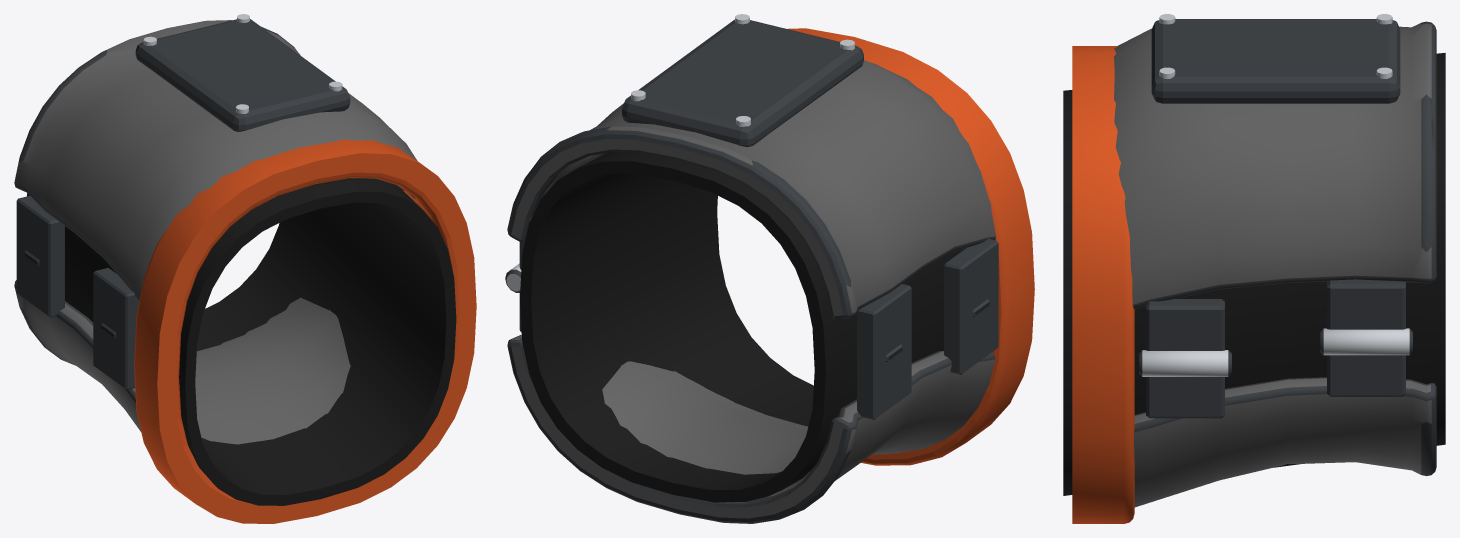
The model's file is gauntlet_base.fbx.
3 views of the same model, side by side, from view 1: azimuth 30°, elevation 25°; view 2: azimuth 150°, elevation 25°; view 3: azimuth 270°, elevation 25° (orthographic). The views are drawn at different scales.
Parts seen in each view (by area): view 1: Mesh_GauntletBase_Undersleeve_Mount, Mesh_GauntletBase_DorsalShell_Mount, Mesh_GauntletBase_Collar_Mount, Mesh_GauntletBase_VentralShell_Mount, Mesh_GauntletBase_Deck_Mount, Mesh_GauntletBase_LatchRear_Mount, Mesh_GauntletBase_LatchFront_Mount; view 2: Mesh_GauntletBase_Undersleeve_Mount, Mesh_GauntletBase_DorsalShell_Mount, Mesh_GauntletBase_VentralShell_Mount, Mesh_GauntletBase_Deck_Mount, Mesh_GauntletBase_Collar_Mount, Mesh_GauntletBase_LatchFront_Mount, Mesh_GauntletBase_LatchRear_Mount; view 3: Mesh_GauntletBase_DorsalShell_Mount, Mesh_GauntletBase_Collar_Mount, Mesh_GauntletBase_VentralShell_Mount, Mesh_GauntletBase_Undersleeve_Mount, Mesh_GauntletBase_Deck_Mount, Mesh_GauntletBase_HingeFront_Mount, Mesh_GauntletBase_HingeRear_Mount, Mesh_GauntletBase_Bosses_Mount.
Part boxes in pixels (x1,y1,x2,y2): Mesh_GauntletBase_Undersleeve_Mount: (27,180,456,505); Mesh_GauntletBase_DorsalShell_Mount: (14,20,417,300); Mesh_GauntletBase_Collar_Mount: (134,139,476,523); Mesh_GauntletBase_VentralShell_Mount: (14,280,350,444); Mesh_GauntletBase_Deck_Mount: (135,19,350,131); Mesh_GauntletBase_LatchRear_Mount: (16,195,64,317); Mesh_GauntletBase_LatchFront_Mount: (93,268,139,389); Mesh_GauntletBase_Undersleeve_Mount: (520,152,966,502); Mesh_GauntletBase_DorsalShell_Mount: (507,60,996,318); Mesh_GauntletBase_VentralShell_Mount: (507,334,995,523); Mesh_GauntletBase_Deck_Mount: (622,19,863,147); Mesh_GauntletBase_Collar_Mount: (788,28,1034,465); Mesh_GauntletBase_LatchFront_Mount: (944,238,998,374); Mesh_GauntletBase_LatchRear_Mount: (857,284,911,419); Mesh_GauntletBase_DorsalShell_Mount: (1114,21,1436,309); Mesh_GauntletBase_Collar_Mount: (1072,46,1134,523); Mesh_GauntletBase_VentralShell_Mount: (1134,377,1436,507); Mesh_GauntletBase_Undersleeve_Mount: (1063,52,1445,495); Mesh_GauntletBase_Deck_Mount: (1151,19,1400,103); Mesh_GauntletBase_HingeFront_Mount: (1139,299,1231,418); Mesh_GauntletBase_HingeRear_Mount: (1320,279,1412,396); Mesh_GauntletBase_Bosses_Mount: (1159,14,1392,78).
Size of the model in its own units: 39.9 by 44.56 by 33.8.
